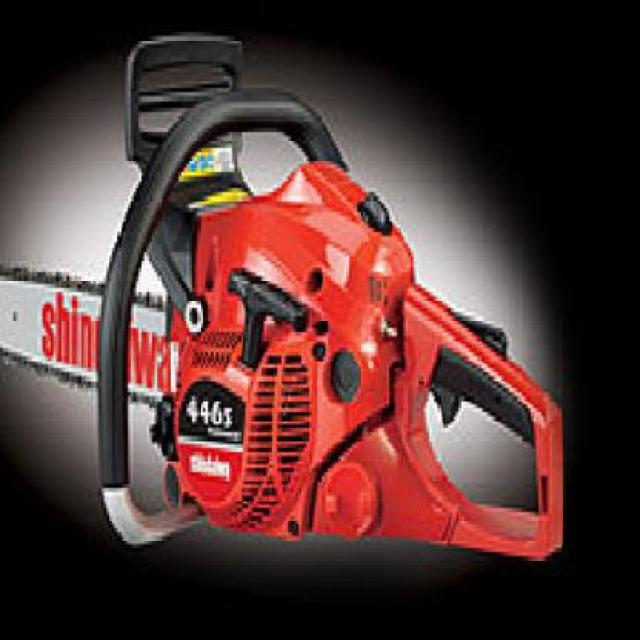Chainsaw: (0, 23, 578, 576)
